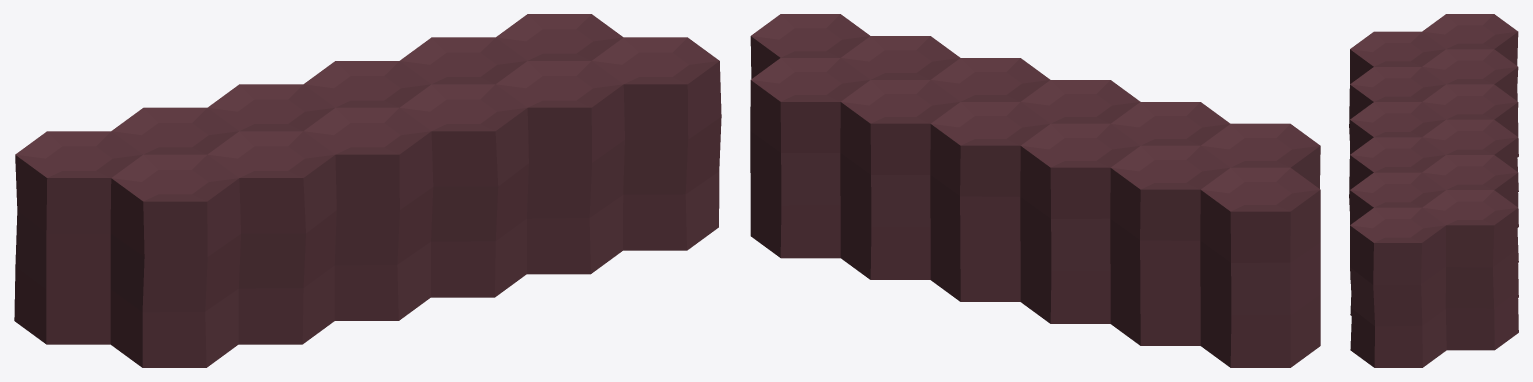
File: racing-tire-barrier-race.glb
3 views of the same model, side by side, from view 1: azimuth 30°, elevation 25°; view 2: azimuth 150°, elevation 25°; view 3: azimuth 270°, elevation 25° (orthographic). The views are drawn at different scales.
Parts seen in each view (by area): view 1: tire-barrier-race; view 2: tire-barrier-race; view 3: tire-barrier-race.
Boxes of the visible parts, box(x1,y1,x2,y2) form: tire-barrier-race: box(14, 14, 721, 367); tire-barrier-race: box(750, 14, 1320, 367); tire-barrier-race: box(1349, 14, 1518, 367).
Size of the model in its own units: 5.43 by 1.38 by 1.7.
